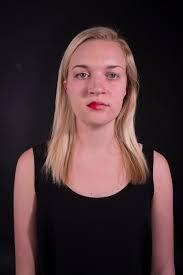No Mask: (21, 15, 171, 213)
